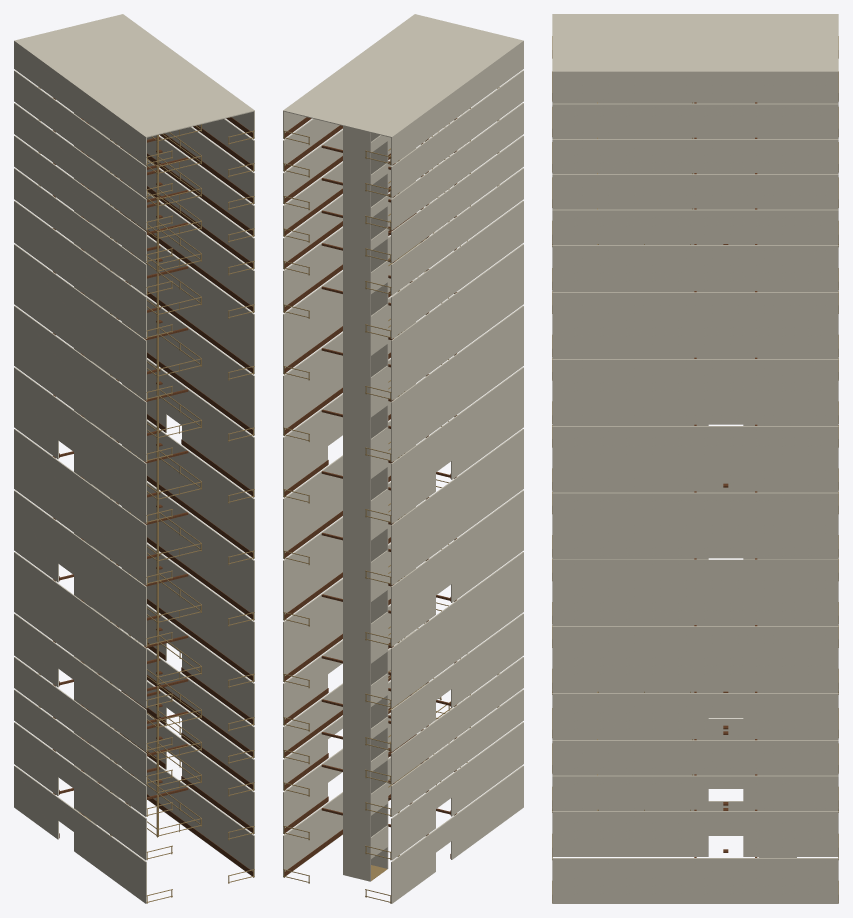
The model's file is AST-CIR-005_aft_activity_d07.glb.
3 views of the same model, side by side, from view 1: azimuth 30°, elevation 25°; view 2: azimuth 150°, elevation 25°; view 3: azimuth 270°, elevation 25° (orthographic). The views are drawn at different scales.
Parts seen in each view (by area): view 1: CORE_BATCH_ivory_enamel, CORE_BATCH_champagne_metal, CORE_BATCH_warm_walnut, CORE_OuterWall_01_-1_Solar_Aft, CORE_OuterWall_04_-1_hydration_Aft, CORE_OuterWall_04_1_family_waiting_Aft, CORE_OuterWall_01_1_Inspection_Aft, CORE_OuterWall_02_1_Uniforms_Aft, CORE_OuterWall_04_-1_hydration_Fore, CORE_OuterWall_01_-1_Solar_Fore, CORE_OuterWall_04_1_family_waiting_Fore, CORE_OuterWall_01_1_Inspection_Fore; view 2: CORE_BATCH_ivory_enamel, CORE_BATCH_warm_walnut, CORE_BATCH_champagne_metal, CORE_OuterWall_04_-1_hydration_Aft, CORE_OuterWall_01_-1_Solar_Aft, CORE_OuterWall_01_-1_Solar_Fore, CORE_OuterWall_04_-1_hydration_Fore, CORE_OuterWall_04_1_family_waiting_Fore, CORE_OuterWall_01_1_Inspection_Fore, CORE_OuterWall_02_1_Uniforms_Fore; view 3: CORE_BATCH_ivory_enamel, CORE_OuterWall_01_1_Inspection_Aft, CORE_OuterWall_04_1_family_waiting_Aft, CORE_OuterWall_02_1_Uniforms_Aft, CORE_OuterWall_01_1_Inspection_Fore, CORE_OuterWall_04_1_family_waiting_Fore, CORE_OuterWall_02_1_Uniforms_Fore, CORE_BATCH_champagne_metal, CORE_OuterWall_01_1_Inspection_Header, CORE_OuterWall_04_1_family_waiting_Header.
Boxes of the visible parts, x1,y1,x2,y2 form: CORE_BATCH_ivory_enamel: [14, 14, 254, 903]; CORE_BATCH_champagne_metal: [38, 87, 254, 903]; CORE_BATCH_warm_walnut: [53, 97, 253, 875]; CORE_OuterWall_01_-1_Solar_Aft: [74, 766, 146, 860]; CORE_OuterWall_04_-1_hydration_Aft: [74, 657, 146, 751]; CORE_OuterWall_04_1_family_waiting_Aft: [182, 631, 254, 725]; CORE_OuterWall_01_1_Inspection_Aft: [182, 739, 254, 833]; CORE_OuterWall_02_1_Uniforms_Aft: [182, 707, 254, 790]; CORE_OuterWall_04_-1_hydration_Fore: [14, 613, 58, 687]; CORE_OuterWall_01_-1_Solar_Fore: [14, 722, 58, 795]; CORE_OuterWall_04_1_family_waiting_Fore: [147, 605, 166, 660]; CORE_OuterWall_01_1_Inspection_Fore: [147, 714, 166, 769]; CORE_BATCH_ivory_enamel: [283, 14, 523, 903]; CORE_BATCH_warm_walnut: [284, 117, 456, 875]; CORE_BATCH_champagne_metal: [283, 87, 499, 903]; CORE_OuterWall_04_-1_hydration_Aft: [451, 613, 523, 707]; CORE_OuterWall_01_-1_Solar_Aft: [451, 722, 523, 816]; CORE_OuterWall_01_-1_Solar_Fore: [391, 786, 435, 860]; CORE_OuterWall_04_-1_hydration_Fore: [391, 678, 435, 751]; CORE_OuterWall_04_1_family_waiting_Fore: [283, 651, 327, 725]; CORE_OuterWall_01_1_Inspection_Fore: [283, 760, 327, 833]; CORE_OuterWall_02_1_Uniforms_Fore: [283, 727, 327, 790]; CORE_BATCH_ivory_enamel: [552, 14, 838, 903]; CORE_OuterWall_01_1_Inspection_Aft: [552, 811, 708, 856]; CORE_OuterWall_04_1_family_waiting_Aft: [552, 693, 708, 738]; CORE_OuterWall_02_1_Uniforms_Aft: [552, 775, 708, 809]; CORE_OuterWall_01_1_Inspection_Fore: [743, 811, 838, 856]; CORE_OuterWall_04_1_family_waiting_Fore: [743, 693, 838, 738]; CORE_OuterWall_02_1_Uniforms_Fore: [743, 775, 838, 809]; CORE_BATCH_champagne_metal: [552, 36, 838, 902]; CORE_OuterWall_01_1_Inspection_Header: [708, 811, 743, 835]; CORE_OuterWall_04_1_family_waiting_Header: [708, 693, 743, 717].
Bounding box in the file's own units: 15.76 × 106 × 33.08.
4 materials, 3 textured.
